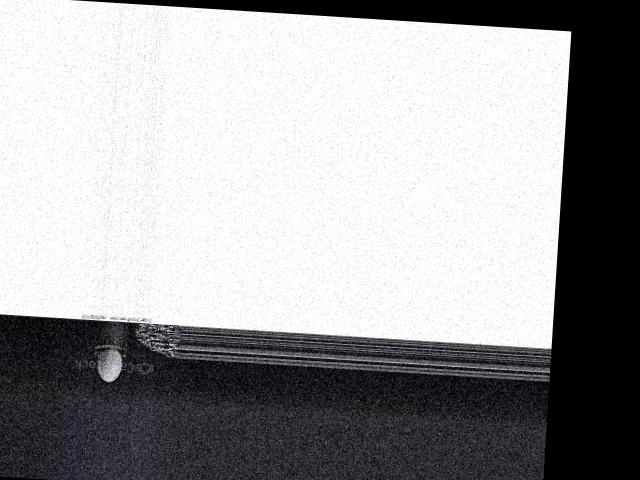egg: (95, 347, 122, 382)
